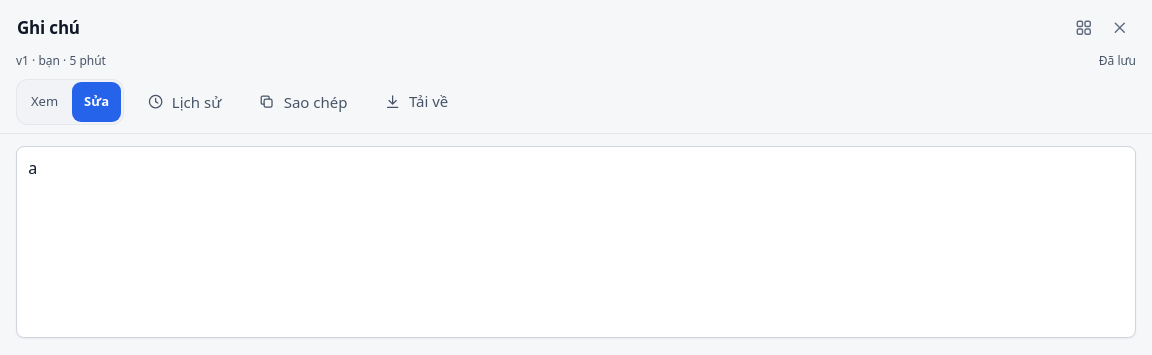
Test: the name › renames the canvas with a PATCH and shows the new name
Click the button "Ghi chú" at (48, 28), box x1=8 y1=12 x2=89 y2=44
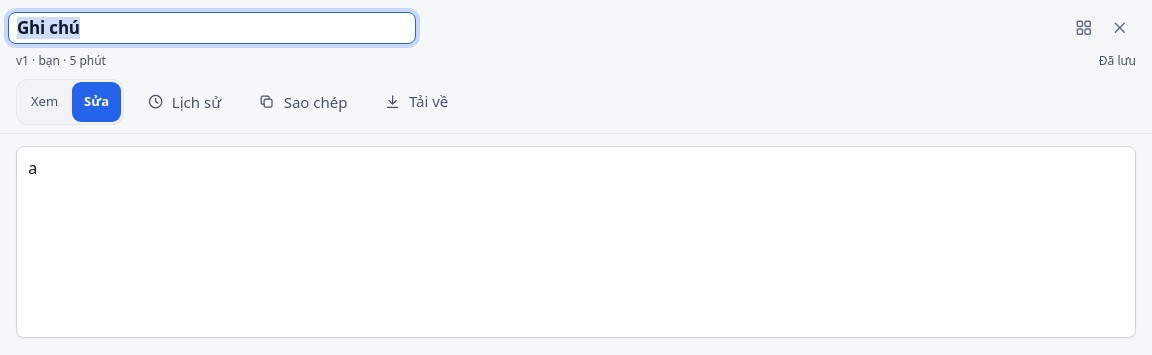
Replace the text in the field named "Tên canvas" with "Kế hoạch" at (212, 28), box x1=8 y1=12 x2=416 y2=44
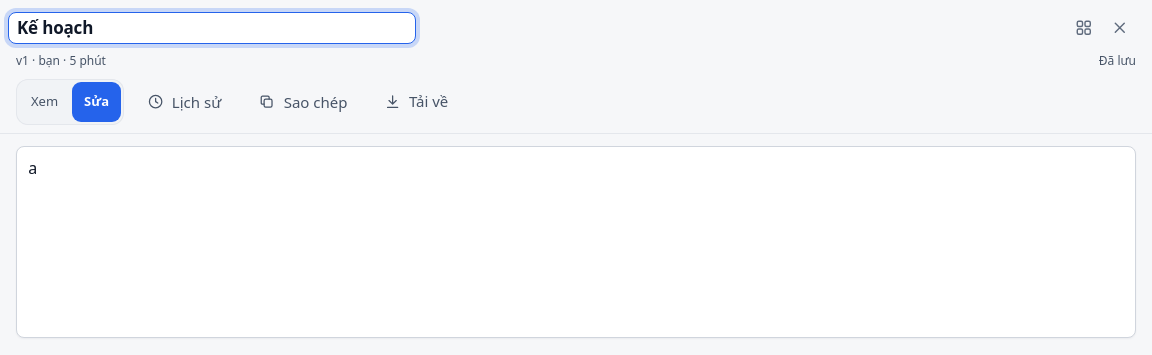
Press Enter in the field named "Tên canvas", box x1=8 y1=12 x2=416 y2=44
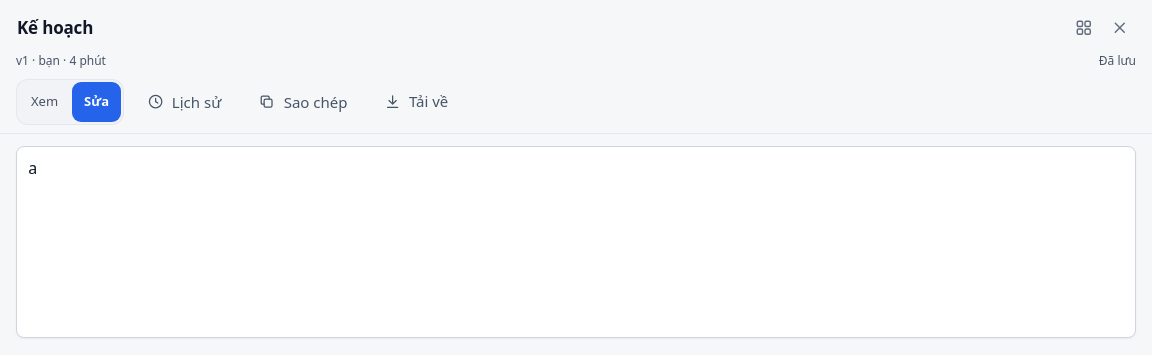
Expected: the button "Kế hoạch" is shown, x1=8 y1=12 x2=102 y2=44
